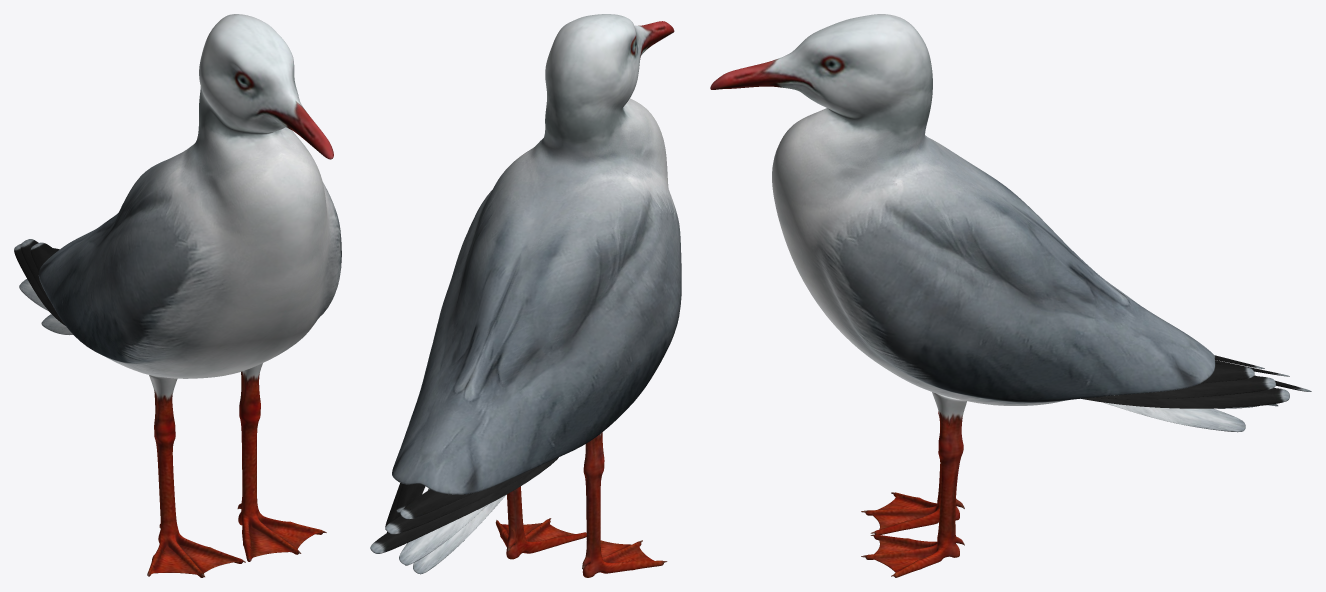
Rendered from gull.fbx.
3 views of the same model, side by side, from view 1: azimuth 30°, elevation 25°; view 2: azimuth 150°, elevation 25°; view 3: azimuth 270°, elevation 25° (orthographic). The views are drawn at different scales.
Visible parts, largest first — view 1: 10043_Seagull_v1_L3; view 2: 10043_Seagull_v1_L3; view 3: 10043_Seagull_v1_L3.
Boxes of the visible parts, <box> form: 10043_Seagull_v1_L3: <box>14,14,341,577</box>; 10043_Seagull_v1_L3: <box>370,14,681,577</box>; 10043_Seagull_v1_L3: <box>710,14,1311,577</box>.
Bounding box in the file's own units: 10.87 × 26.42 × 27.65.
Materials: 1 (1 with a texture image).
